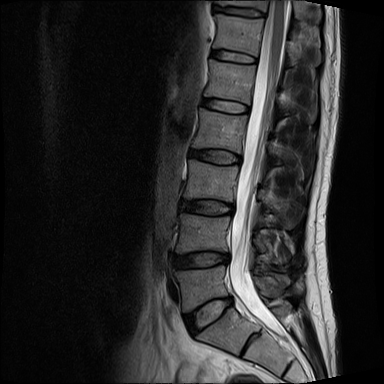Lumbar Disc Bulge (LDB): (171, 284, 257, 342), (165, 229, 244, 275), (172, 185, 245, 223)
Normal IVD: (191, 89, 254, 120), (182, 140, 245, 169), (202, 41, 260, 72), (210, 0, 269, 23)
Spinal Stenosis (SS): (210, 239, 244, 281), (218, 287, 244, 321)
